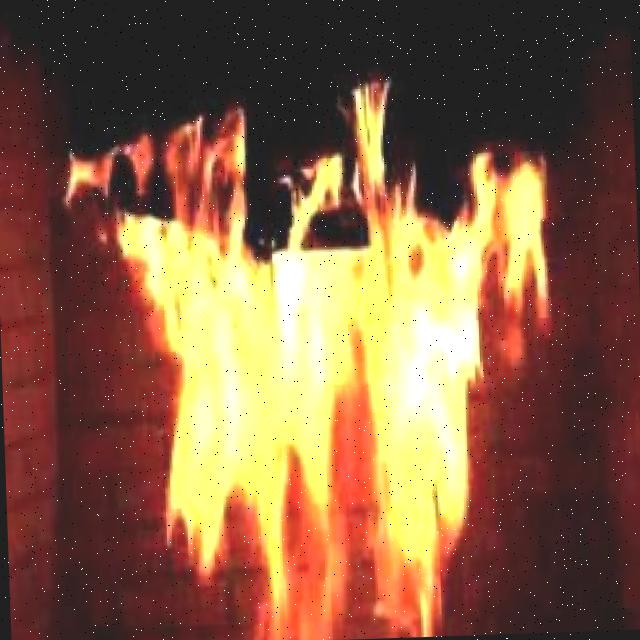fire: (133, 211, 482, 613)
